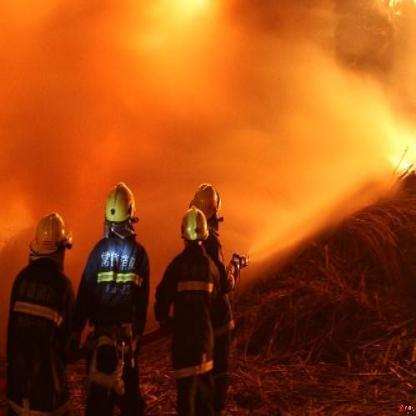other: (99, 179, 140, 222), (178, 202, 209, 245)
smoke: (1, 1, 414, 194)
